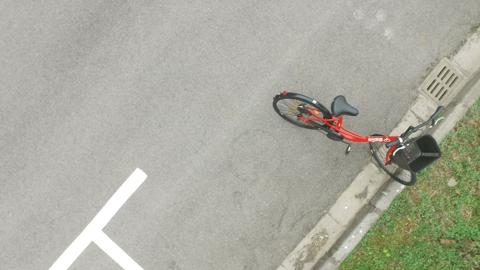bike: (263, 86, 448, 192)
